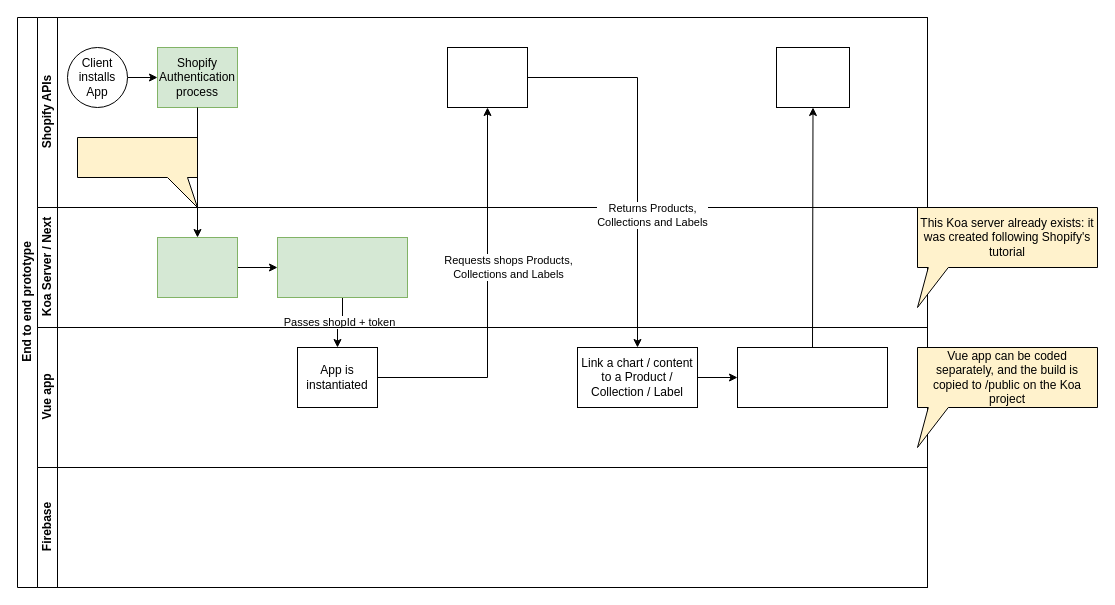
Some shapes in this 1115 by 605 pixel diagram are drawn without their labels. Here are the shapes that lost their labels. From the top down, the centre of each, then its label:
At pixel 487 77: "Shopify Product (?) API".
At pixel 813 77: "Shopify Store (?) API".
At pixel 137 172: "Doubt: where do we ask for the Products context?".
At pixel 197 267: "Receives ShopID + Authentication token".
At pixel 342 267: "Creates new App, mounting the Vue App compiled to /public".
At pixel 812 377: "Creates a script tag? Injects a button into a product page?".
